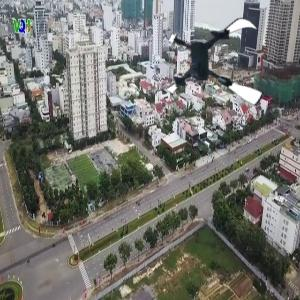drone: (165, 11, 274, 120)
